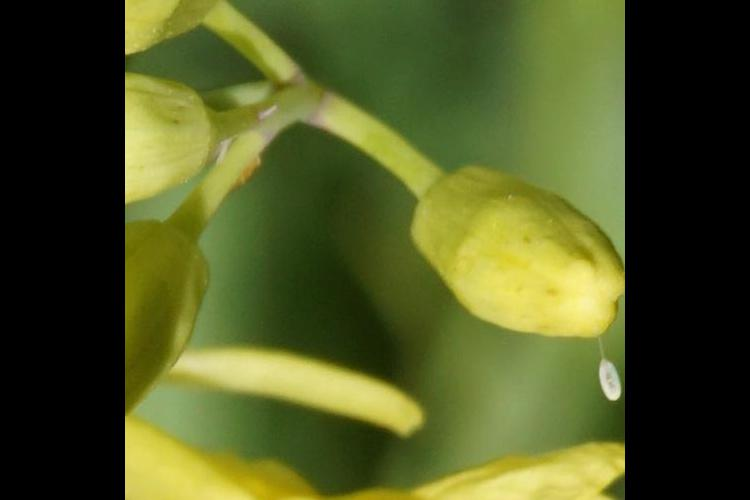bud: (403, 166, 612, 332), (127, 214, 209, 410), (130, 72, 214, 203), (131, 1, 223, 48)
yellow: (150, 428, 621, 500)
